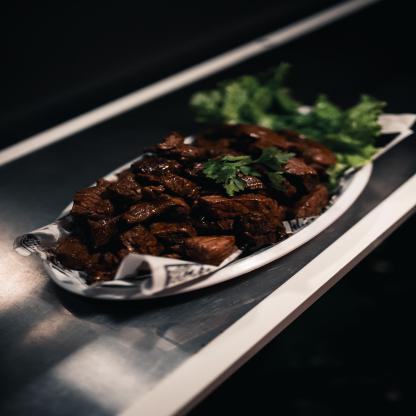Carne: (101, 196, 194, 223), (121, 159, 192, 194), (184, 230, 242, 263), (232, 196, 274, 237), (48, 237, 98, 269), (201, 196, 250, 226), (77, 177, 116, 212), (139, 221, 193, 246), (108, 228, 157, 254), (293, 184, 330, 218), (280, 154, 318, 184), (151, 141, 189, 163)
